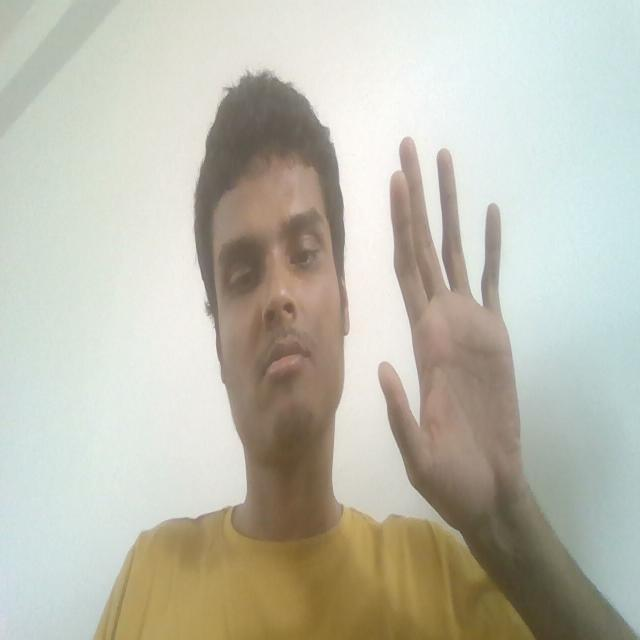Hello: (364, 125, 551, 614)
